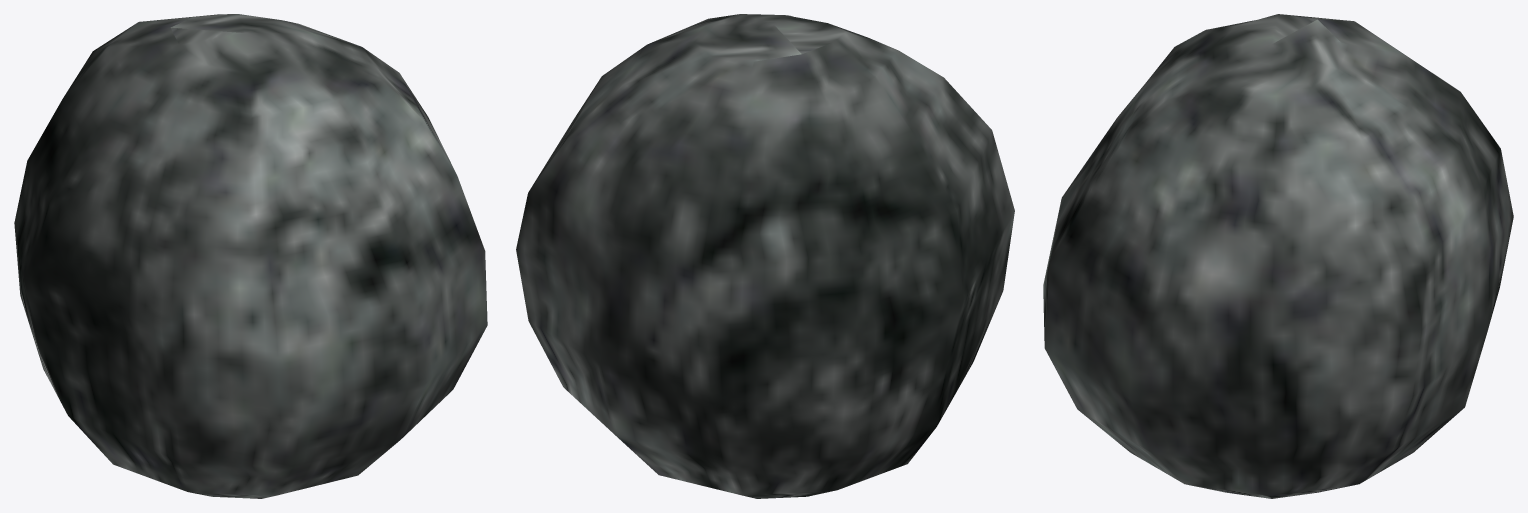
The model's file is Ore.fbx.
3 renders of one model, left to right at view 1: azimuth 30°, elevation 25°; view 2: azimuth 150°, elevation 25°; view 3: azimuth 270°, elevation 25°, orthographic. The views are drawn at different scales.
Parts seen in each view (by area): view 1: Ore; view 2: Ore; view 3: Ore.
Boxes of the visible parts, x1,y1,x2,y2 form: Ore: (14, 14, 487, 498); Ore: (516, 14, 1014, 498); Ore: (1043, 14, 1513, 498).
Size of the model in its own units: 45.06 by 47.78 by 47.01.
